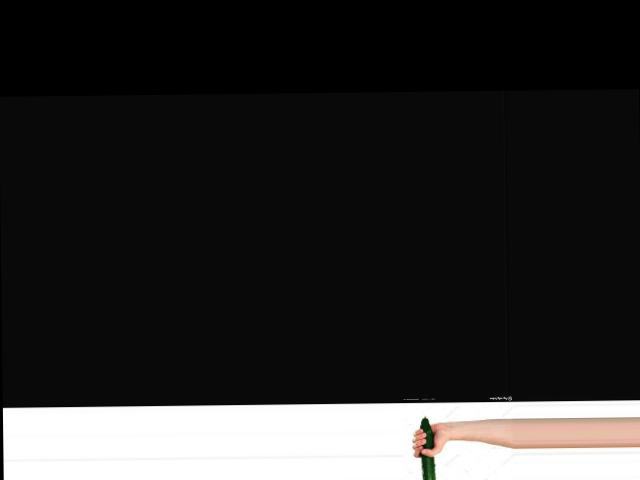cucumber: (419, 416, 435, 480)
